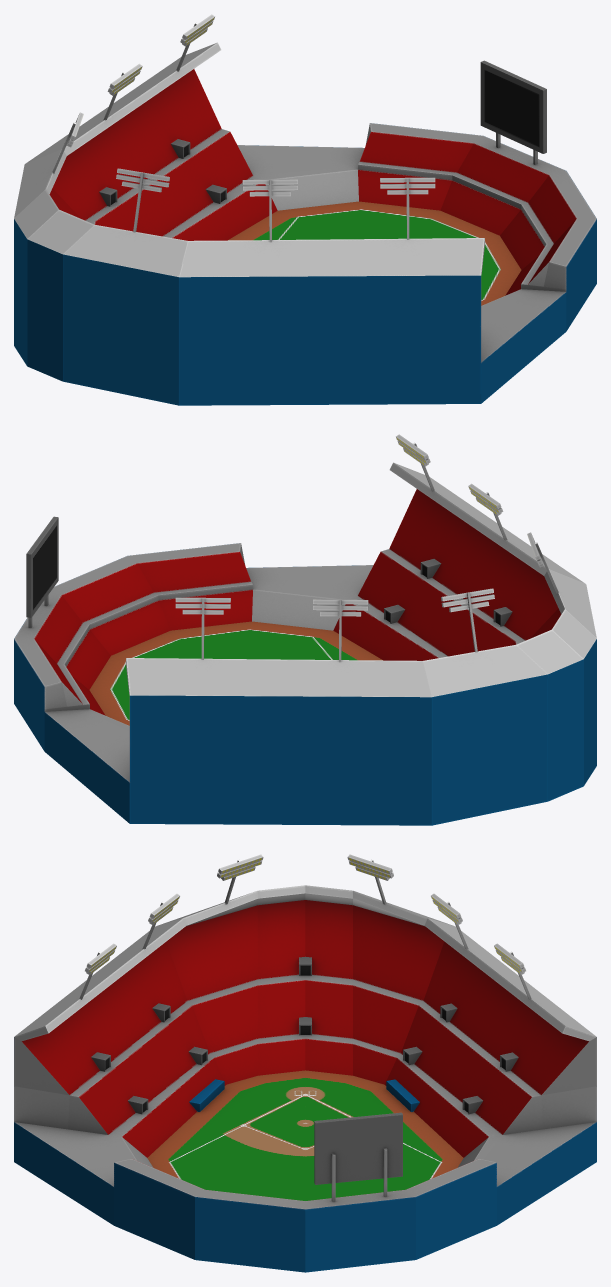
File: large-park.glb
3 views of the same model, one above another, from view 1: azimuth 30°, elevation 25°; view 2: azimuth 150°, elevation 25°; view 3: azimuth 270°, elevation 25° (orthographic). The views are drawn at different scales.
Parts seen in each view (by area): view 1: Ballpark_mesh; view 2: Ballpark_mesh; view 3: Ballpark_mesh.
Part boxes in pixels (x1,y1,x2,y2): Ballpark_mesh: [14, 14, 596, 405]; Ballpark_mesh: [14, 434, 596, 825]; Ballpark_mesh: [14, 854, 596, 1272].
Bounding box in the file's own units: 34.23 × 12.19 × 32.89.
Materials: 1 (1 with a texture image).
